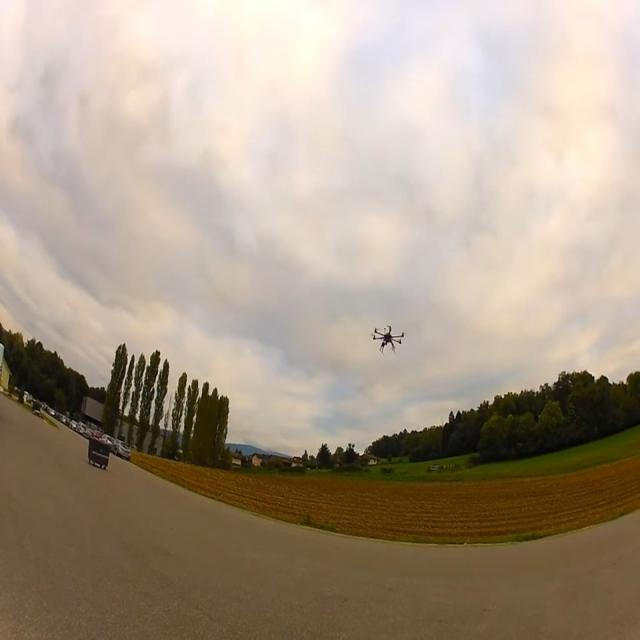drone: (371, 324, 404, 354)
